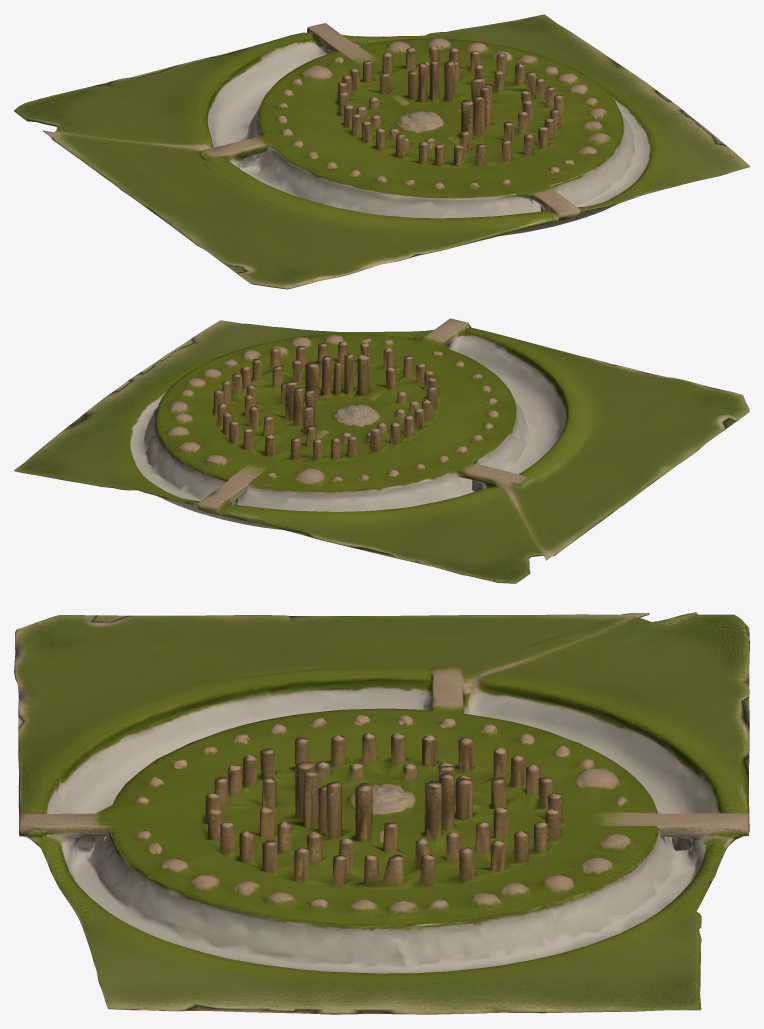
The model's file is phase2.glb.
The picture shows the model from 3 angles, top to bottom: view 1: azimuth 30°, elevation 25°; view 2: azimuth 150°, elevation 25°; view 3: azimuth 270°, elevation 25°; orthographic projection. The views are drawn at different scales.
Visible parts, largest first — view 1: tripo_node_7ebbed94-3947-4739-a10f-9adc180d3da1; view 2: tripo_node_7ebbed94-3947-4739-a10f-9adc180d3da1; view 3: tripo_node_7ebbed94-3947-4739-a10f-9adc180d3da1.
Boxes of the visible parts, x1,y1,x2,y2 form: tripo_node_7ebbed94-3947-4739-a10f-9adc180d3da1: (14, 14, 749, 289); tripo_node_7ebbed94-3947-4739-a10f-9adc180d3da1: (14, 318, 749, 583); tripo_node_7ebbed94-3947-4739-a10f-9adc180d3da1: (14, 612, 749, 1014).
Bounding box in the file's own units: 1 × 0.1216 × 0.8459.
1 material, 1 textured.
